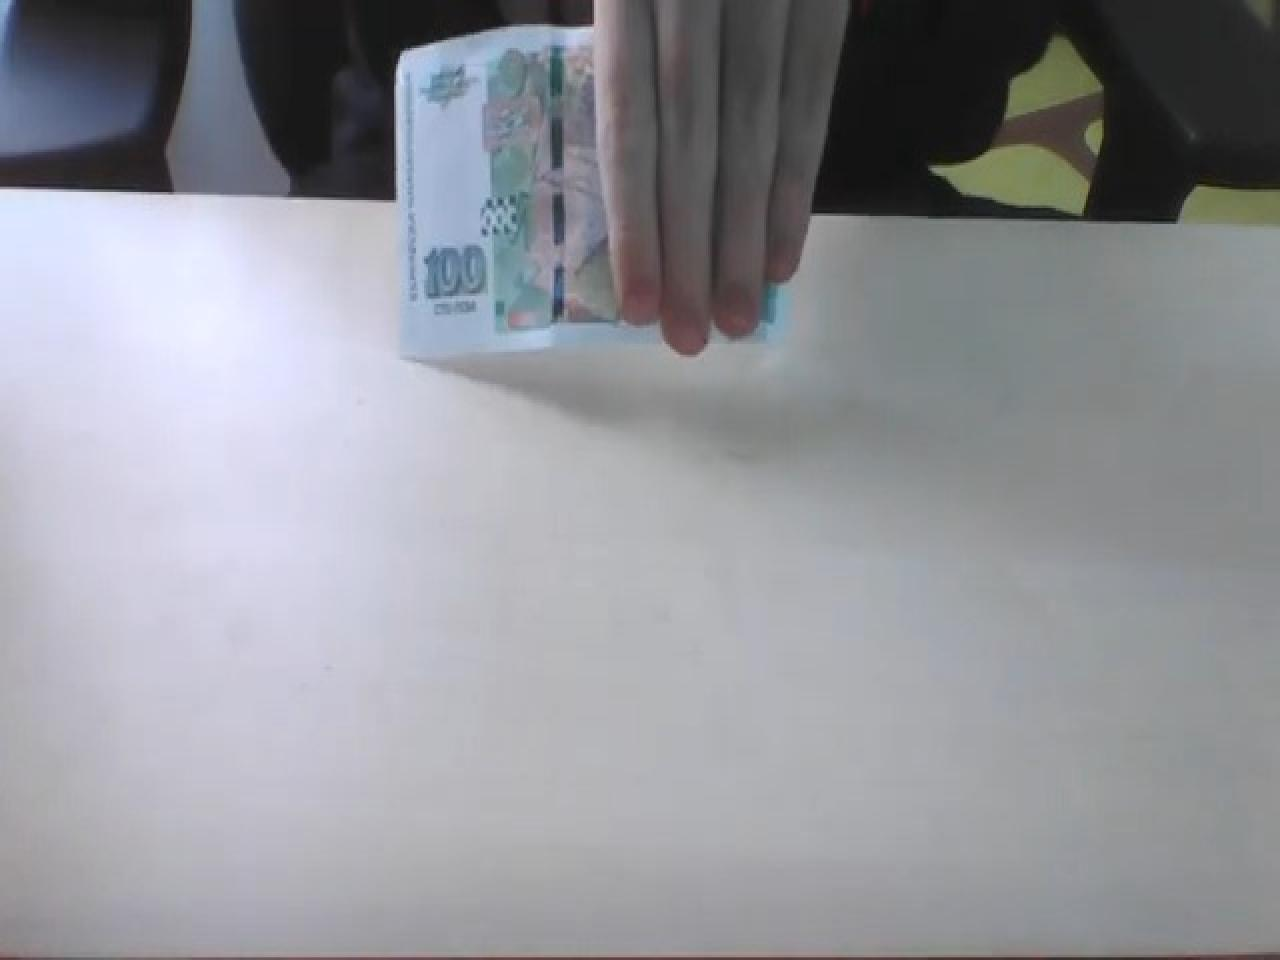100leva: (420, 240, 488, 298)
